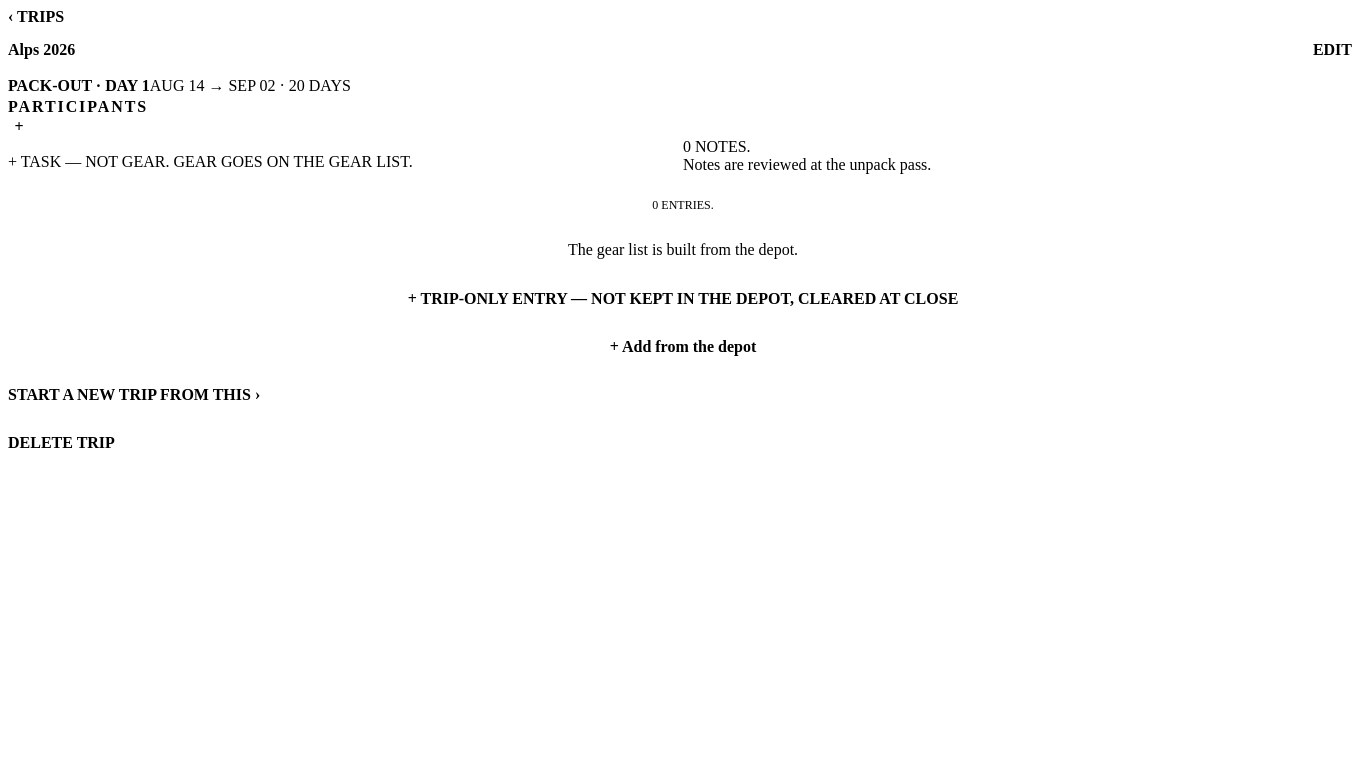
the trip screen — EDIT › carries the name and the dates, and nothing else
This screenshot has width=1366, height=768.
Expected: the field labelled "Name" is not shown
What coordinates should you click on to do the following:
click the button "EDIT"
I would click on:
 (1332, 50)
Its box is [1307,26,1358,74].
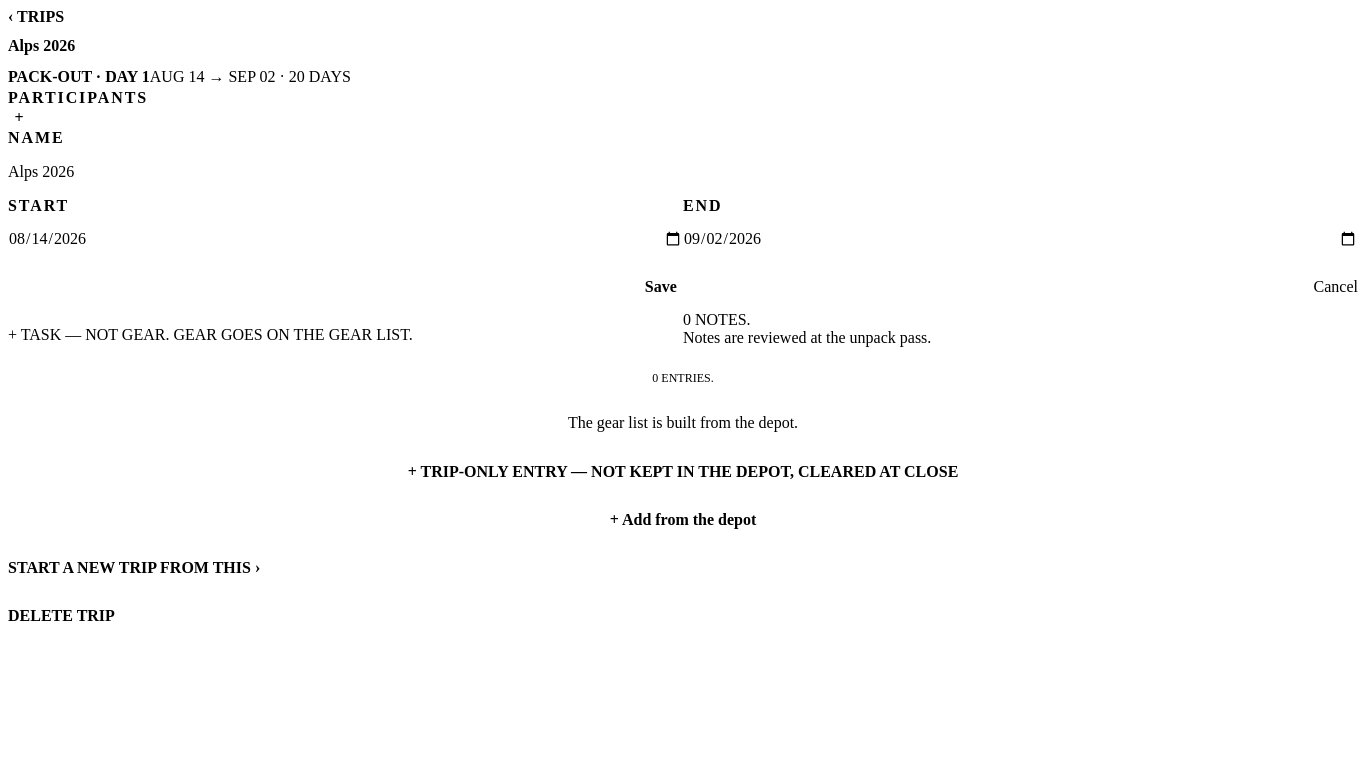
Expected: the field labelled "Name" holds "Alps 2026", [8,147,1358,197]
Expected: the date field labelled "Start" holds "2026-08-14", [8,215,683,263]
Expected: the date field labelled "End" holds "2026-09-02", [683,215,1358,263]
What coordinates should you click on to do the following:
click the button "Cancel"
I would click on:
 (1336, 287)
Its box is [1314,263,1358,311].
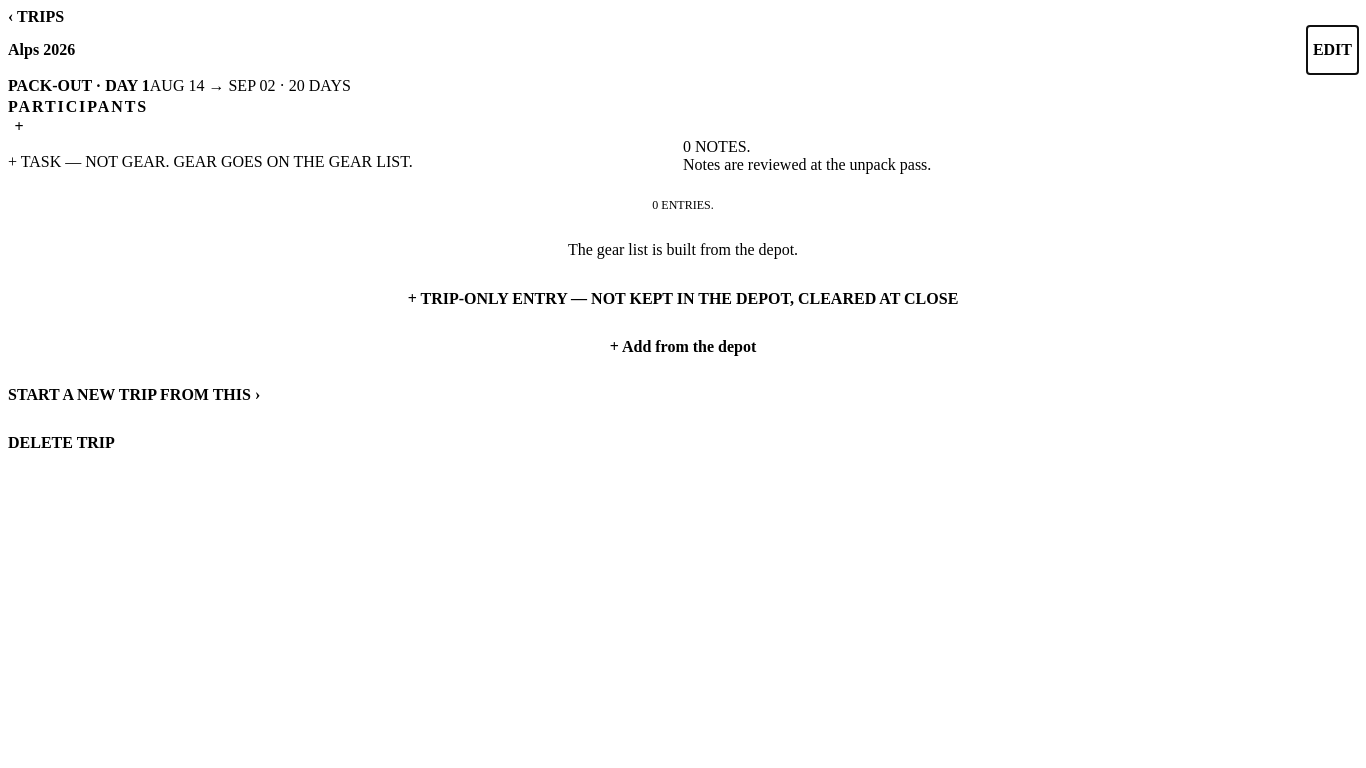
Expected: the text "Name" is gone
